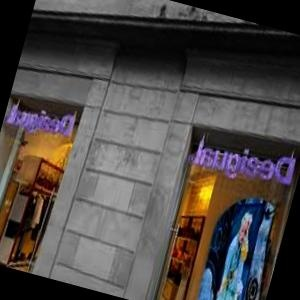desigual: (116, 57, 300, 171), (82, 42, 85, 125)
